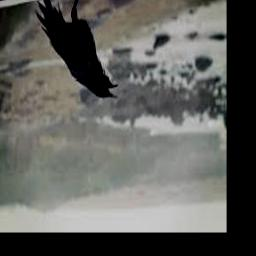Crow: (35, 0, 119, 101)
